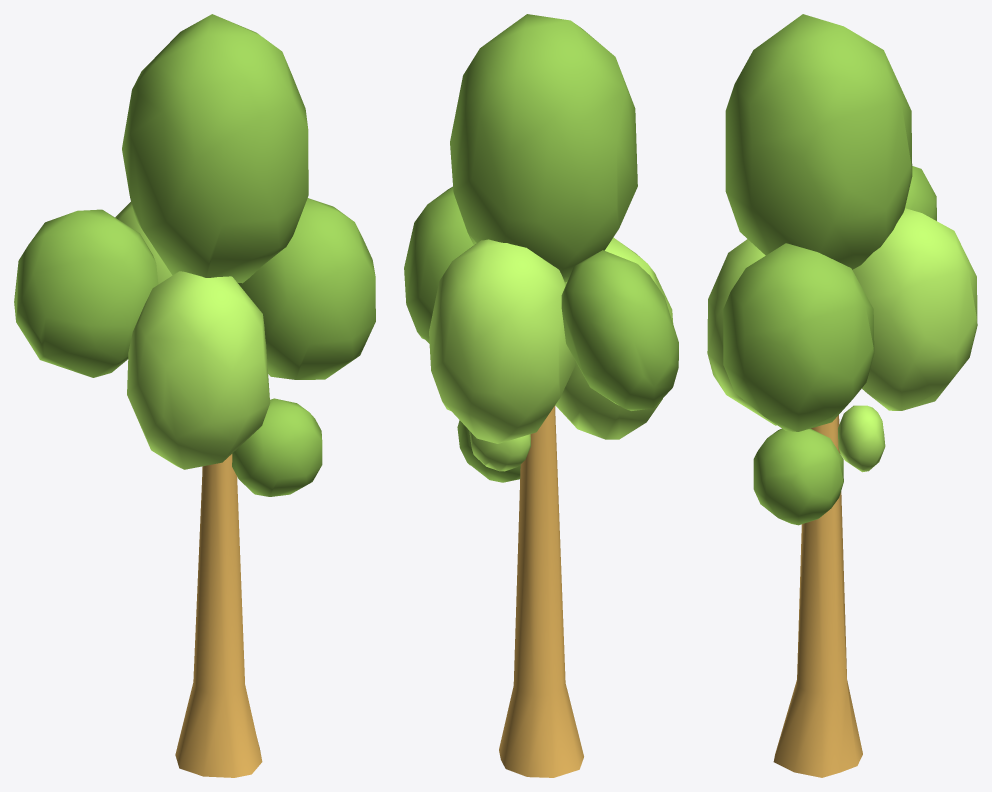
File: Tree.FBX
The picture shows the model from 3 angles, left to right: view 1: azimuth 30°, elevation 25°; view 2: azimuth 150°, elevation 25°; view 3: azimuth 270°, elevation 25°; orthographic projection.
Visible parts, largest first — view 1: Cylinder001; view 2: Cylinder001; view 3: Cylinder001.
Boxes of the visible parts, <box> form: Cylinder001: <box>14,14,375,777</box>; Cylinder001: <box>404,14,678,777</box>; Cylinder001: <box>707,14,977,777</box>.
Size of the model in its own units: 28.09 by 65.52 by 21.85.
